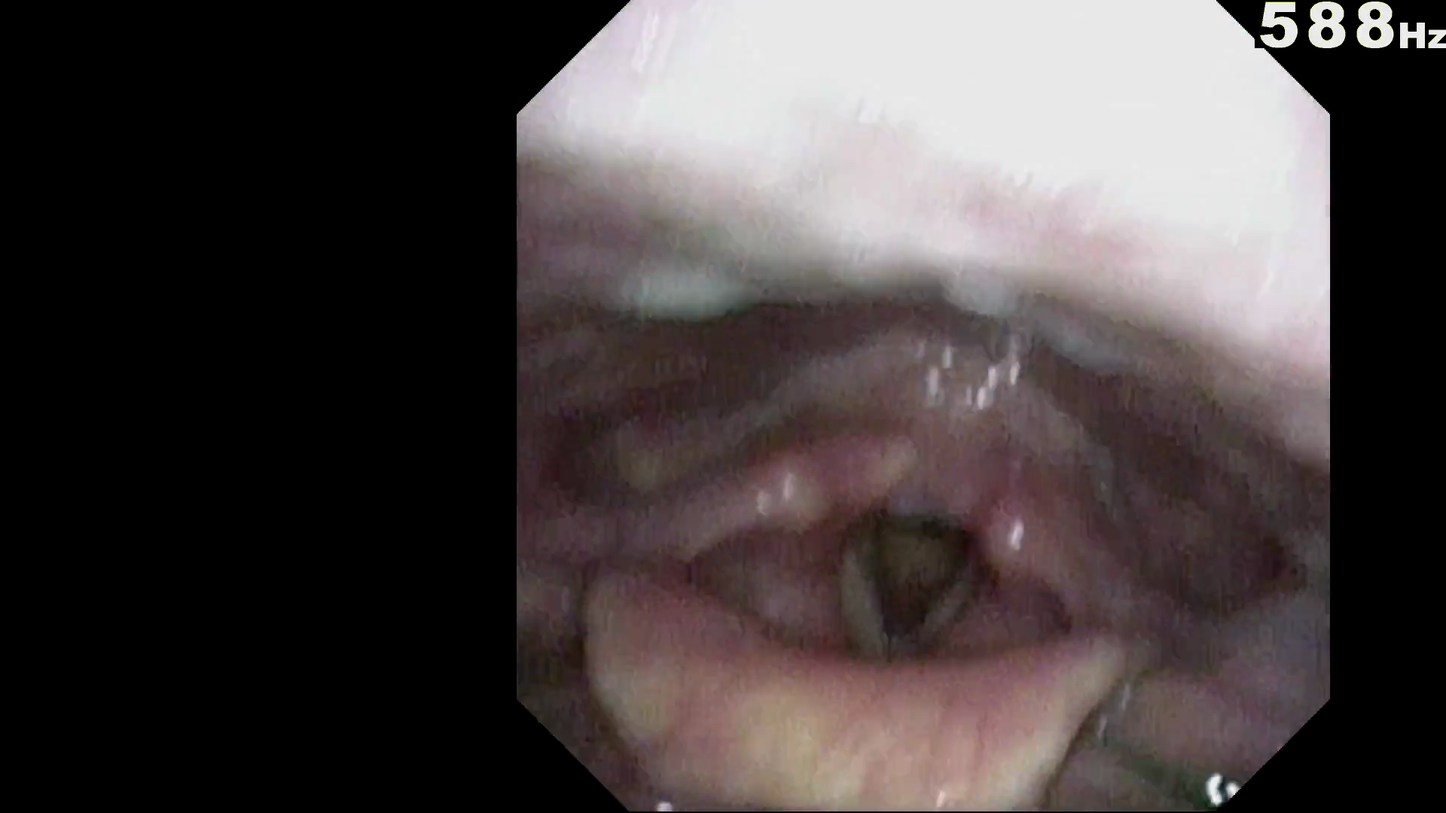epiglottis: (596, 564, 1137, 754)
trachea: (844, 494, 969, 647)
